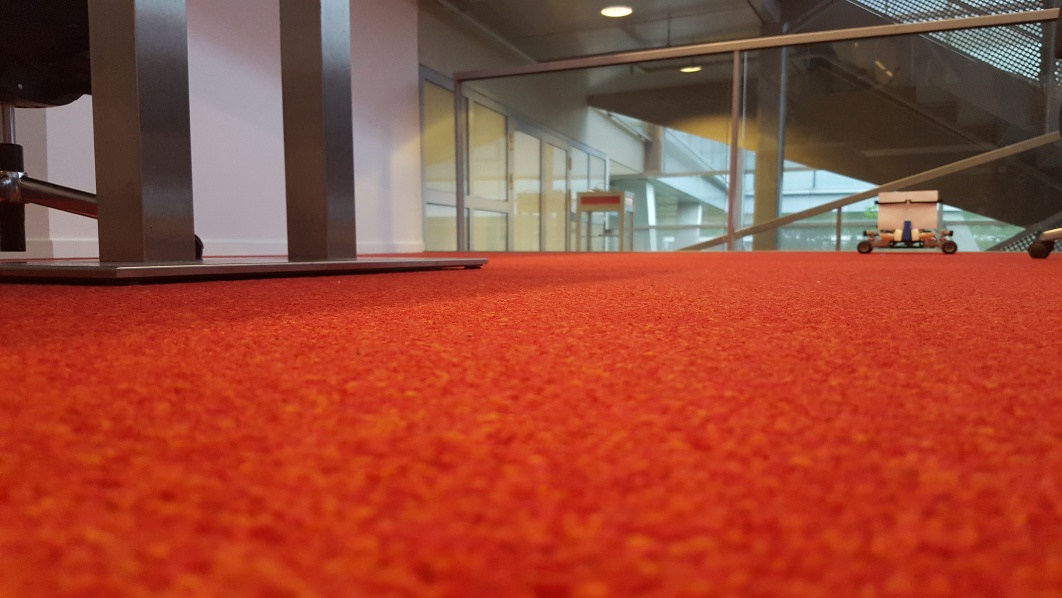car: (855, 188, 958, 253)
